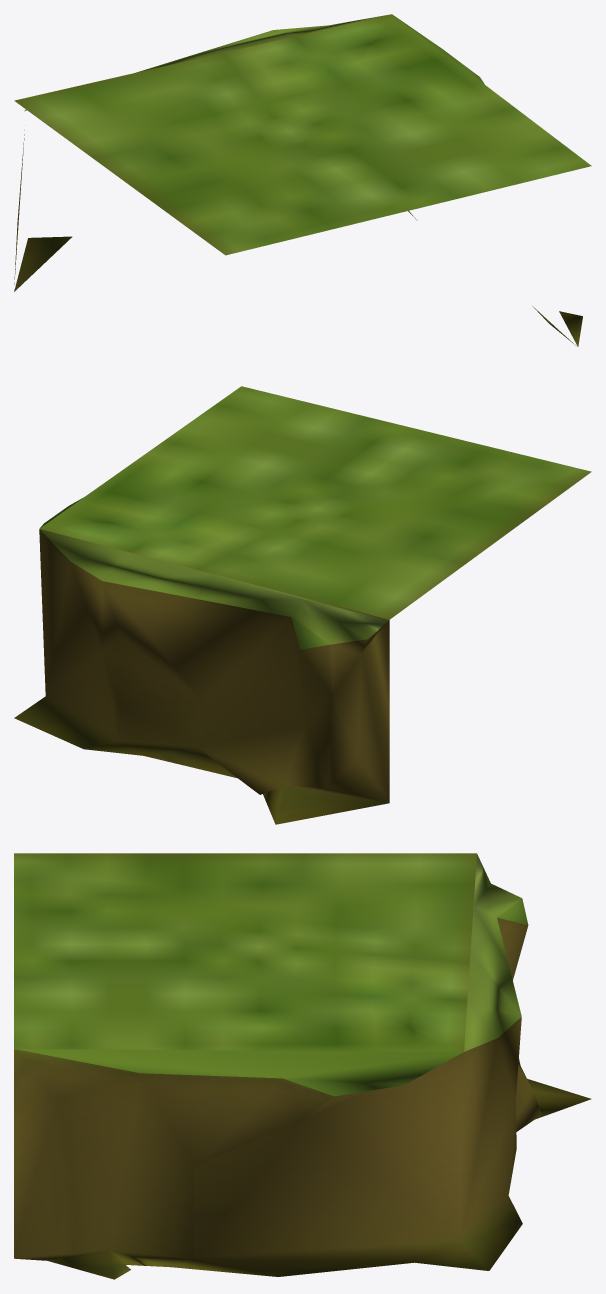
Rendered from atom_one_grass.glb.
The picture shows the model from 3 angles, top to bottom: view 1: azimuth 30°, elevation 25°; view 2: azimuth 150°, elevation 25°; view 3: azimuth 270°, elevation 25°; orthographic projection. The views are drawn at different scales.
Parts seen in each view (by area): view 1: land_one; view 2: land_one; view 3: land_one.
Boxes of the visible parts, x1,y1,x2,y2 form: land_one: (14, 14, 591, 346); land_one: (14, 386, 591, 824); land_one: (14, 853, 591, 1279).
Size of the model in its own units: 2.2 by 1.01 by 2.5.
1 material, 1 textured.
